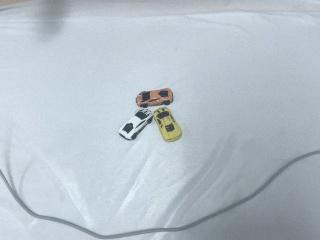toy_car: (118, 108, 153, 141), (136, 88, 174, 108)
